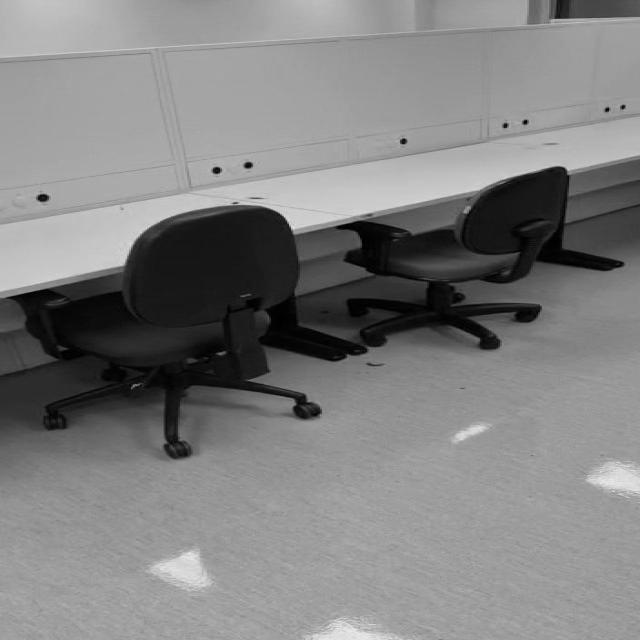cadeira-azul: (8, 205, 322, 458)
